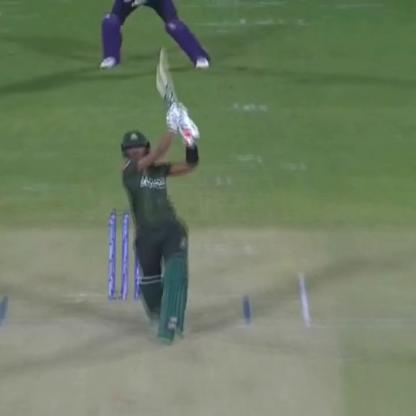bat: (146, 45, 201, 138)
pitch: (2, 276, 336, 416)
